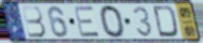3: (130, 5, 154, 38)
6: (47, 5, 69, 39)
B: (21, 5, 48, 39)
D: (152, 4, 180, 39)
E: (72, 5, 102, 38)
O: (98, 4, 127, 39)
